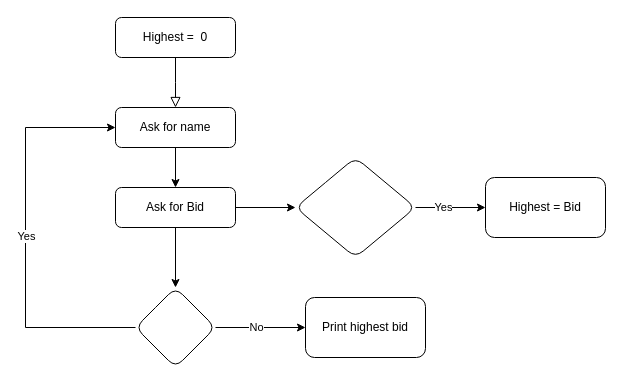
The diagram is 623 pixels wide and 385 high, and some of its shapes have lost their labels. The shapes that lost their labels are listed below. From the top down, each one's centre as x and y in pixels, then its label:
the point at 355,207: Is Bid higher than Highest Bid
the point at 175,327: Add more bidder?
